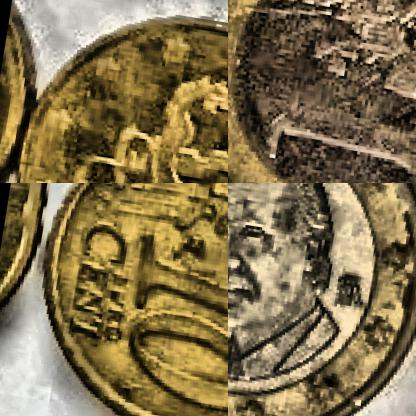coin: (20, 183, 227, 415), (228, 183, 415, 415), (0, 0, 227, 182), (228, 0, 415, 182)
